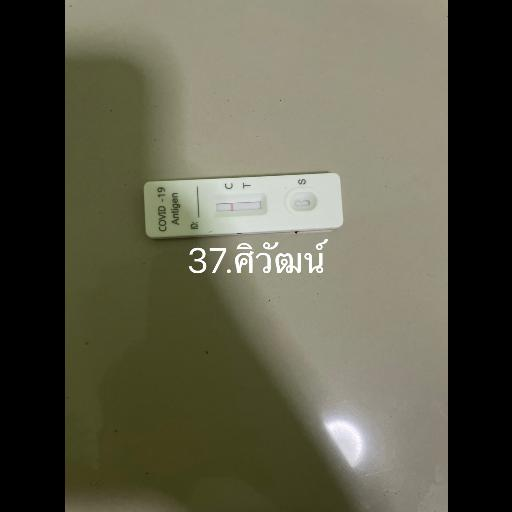Neg: (141, 171, 345, 237)
